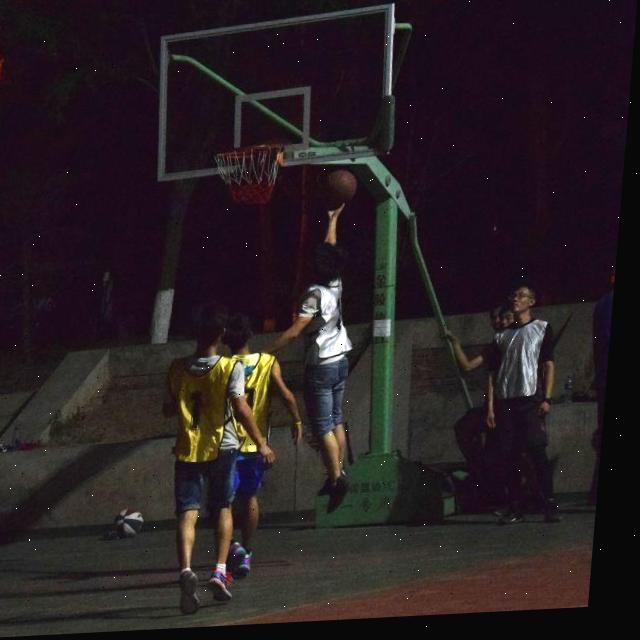basketball: (317, 166, 360, 209)
hoop: (207, 143, 285, 209)
